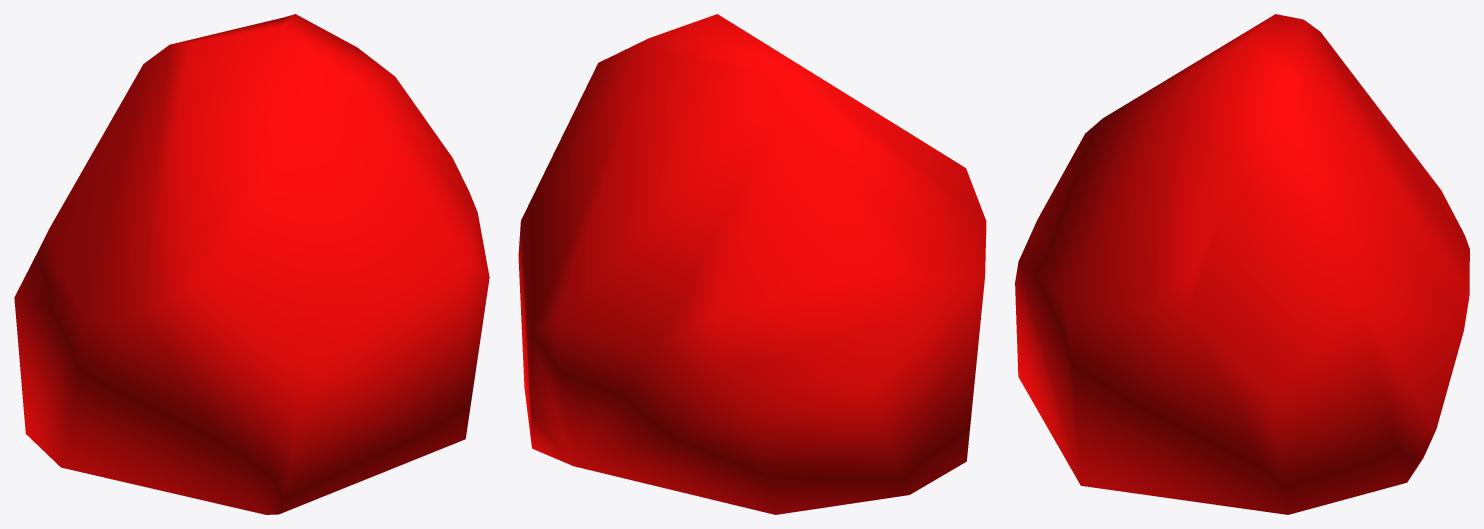
The model's file is Rocher2_LowPoly.fbx.
The picture shows the model from 3 angles, left to right: view 1: azimuth 30°, elevation 25°; view 2: azimuth 150°, elevation 25°; view 3: azimuth 270°, elevation 25°; orthographic projection. The views are drawn at different scales.
Parts seen in each view (by area): view 1: Rocher2_LowPoly; view 2: Rocher2_LowPoly; view 3: Rocher2_LowPoly.
Part boxes in pixels (bbox=[...]): Rocher2_LowPoly: bbox=[14, 14, 489, 514]; Rocher2_LowPoly: bbox=[518, 14, 986, 514]; Rocher2_LowPoly: bbox=[1015, 14, 1469, 514].
Size of the model in its own units: 118 by 106 by 112.
